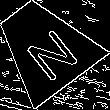N_NW: (11, 14, 77, 79)
